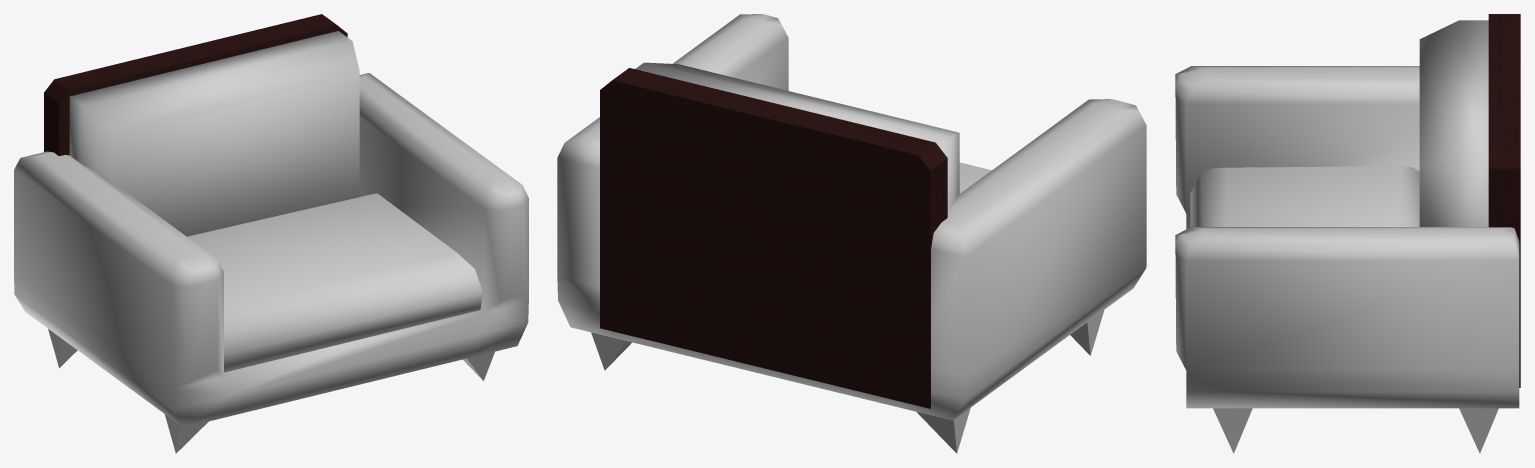
File: Armchair_D.FBX
3 renders of one model, left to right at view 1: azimuth 30°, elevation 25°; view 2: azimuth 150°, elevation 25°; view 3: azimuth 270°, elevation 25°, orthographic. The views are drawn at different scales.
Visible parts, largest first — view 1: Flatback_Chair; view 2: Flatback_Chair; view 3: Flatback_Chair.
Part boxes in pixels (x1,y1,x2,y2): Flatback_Chair: [14, 14, 528, 453]; Flatback_Chair: [557, 14, 1146, 453]; Flatback_Chair: [1175, 14, 1520, 453].
Size of the model in its own units: 214 by 157 by 170.
